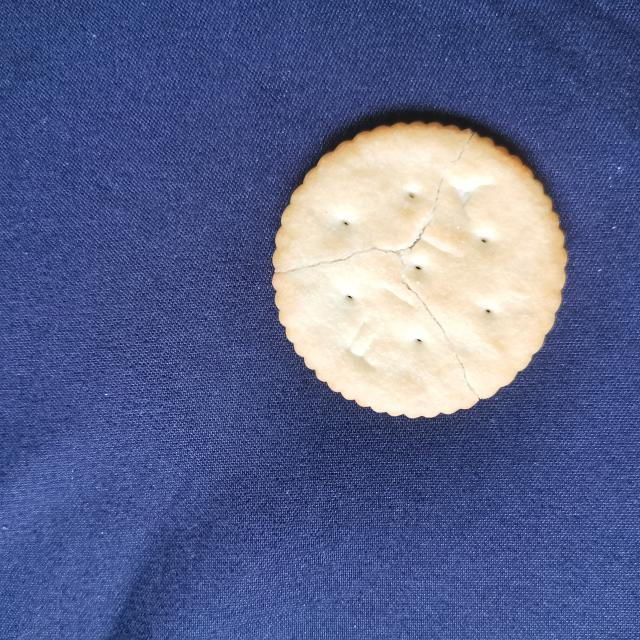Fracture: (272, 120, 488, 404)
